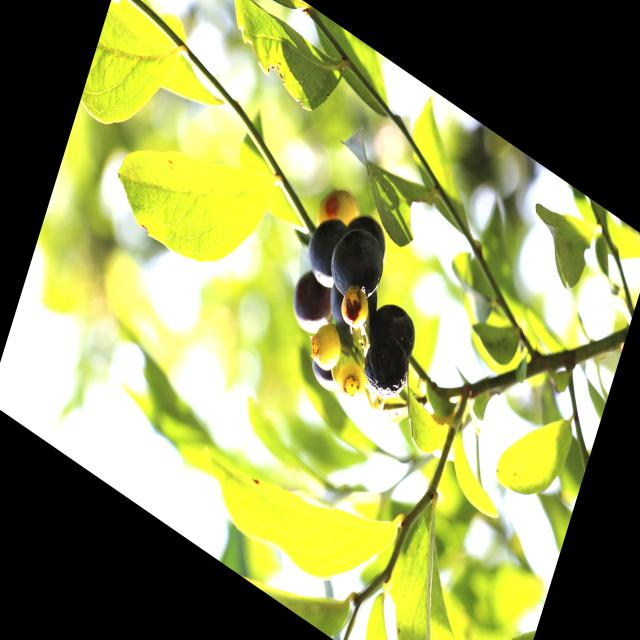blueberry: (323, 201, 398, 314), (356, 326, 417, 414), (281, 261, 339, 348), (364, 289, 426, 369), (297, 204, 350, 293), (299, 343, 346, 401)
blueberry-unripe: (335, 284, 373, 339), (333, 358, 368, 408), (309, 324, 344, 374)
